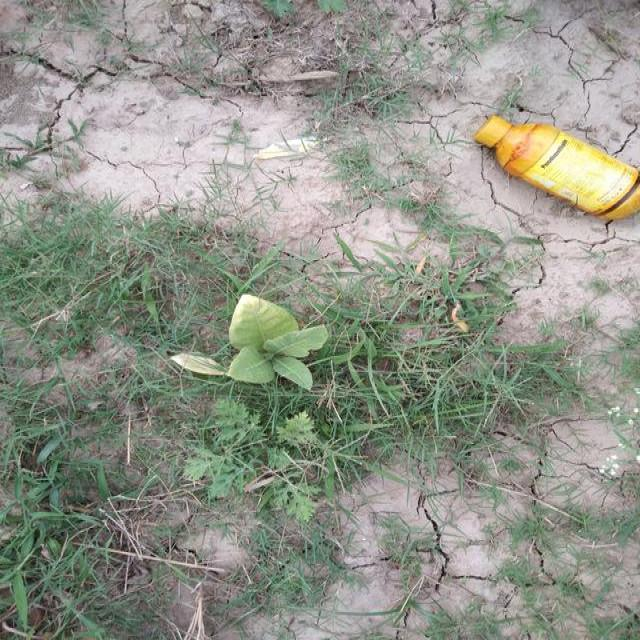crop: (210, 278, 334, 404)
